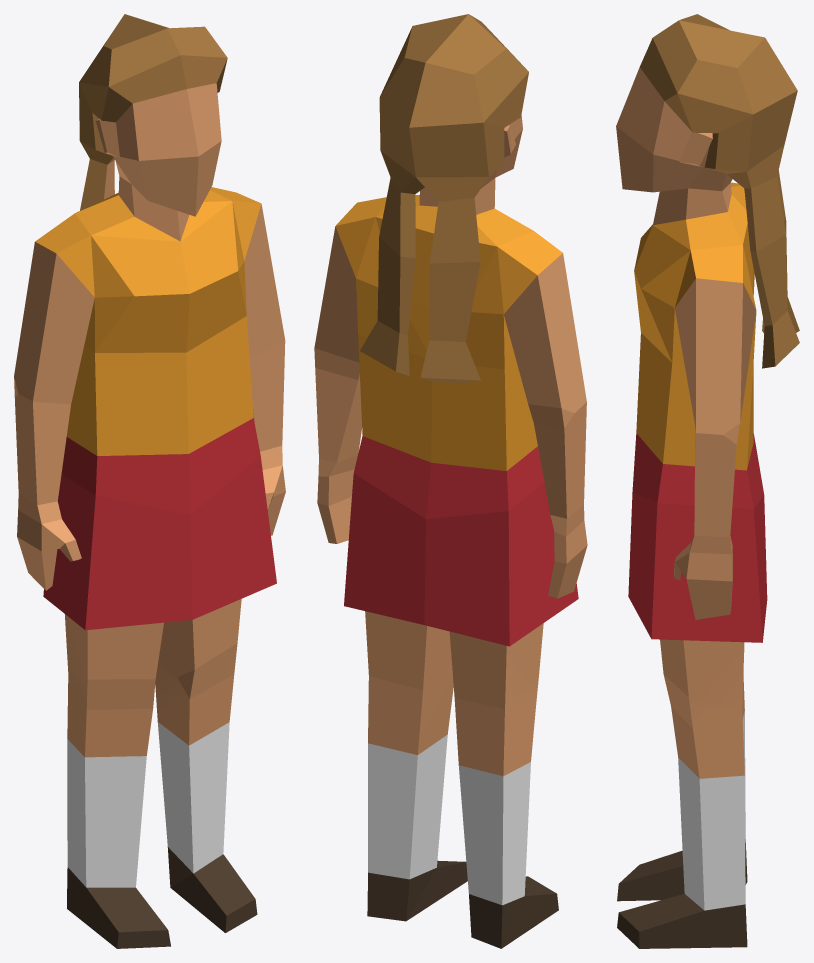
The model's file is people_girl-skirt.fbx.
3 renders of one model, left to right at view 1: azimuth 30°, elevation 25°; view 2: azimuth 150°, elevation 25°; view 3: azimuth 270°, elevation 25°, orthographic.
Visible parts, largest first — view 1: people_girl_skirt; view 2: people_girl_skirt; view 3: people_girl_skirt.
Boxes of the visible parts, x1,y1,x2,y2 form: people_girl_skirt: [14, 14, 285, 948]; people_girl_skirt: [314, 14, 587, 948]; people_girl_skirt: [616, 14, 799, 948].
Bounding box in the file's own units: 59.95 × 200 × 37.25.
